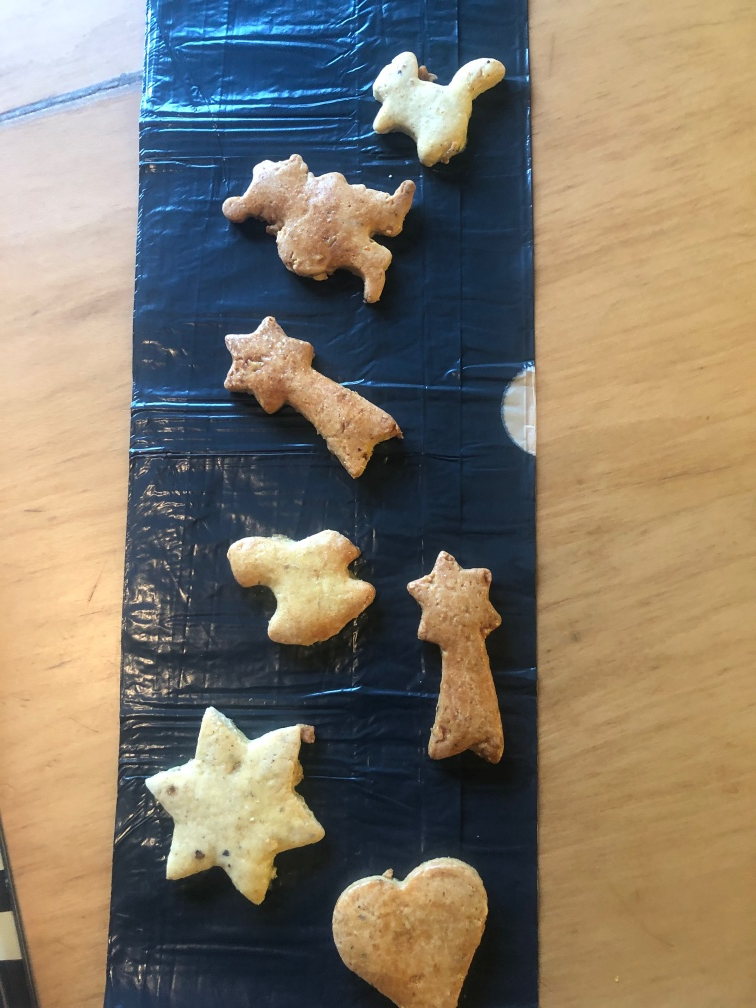heart: (318, 849, 495, 1008)
lamb: (223, 520, 379, 650)
santa claus: (219, 150, 420, 310)
shooting star: (220, 313, 404, 483), (403, 543, 524, 770)
squirrel: (368, 48, 510, 166)
star: (145, 703, 327, 909)
